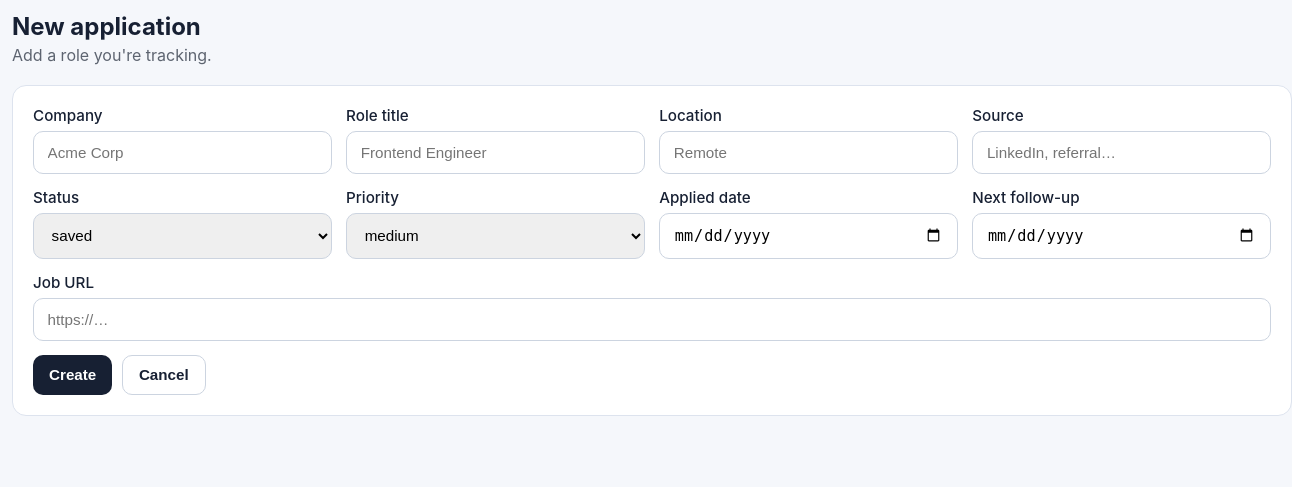
Scenario: NewApplicationPage › shows the server error when creation fails
The width and height of the screenshot is (1292, 487).
Type "Engineer" into the field labelled "Role title" at [495, 152], box [346,131,645,174]
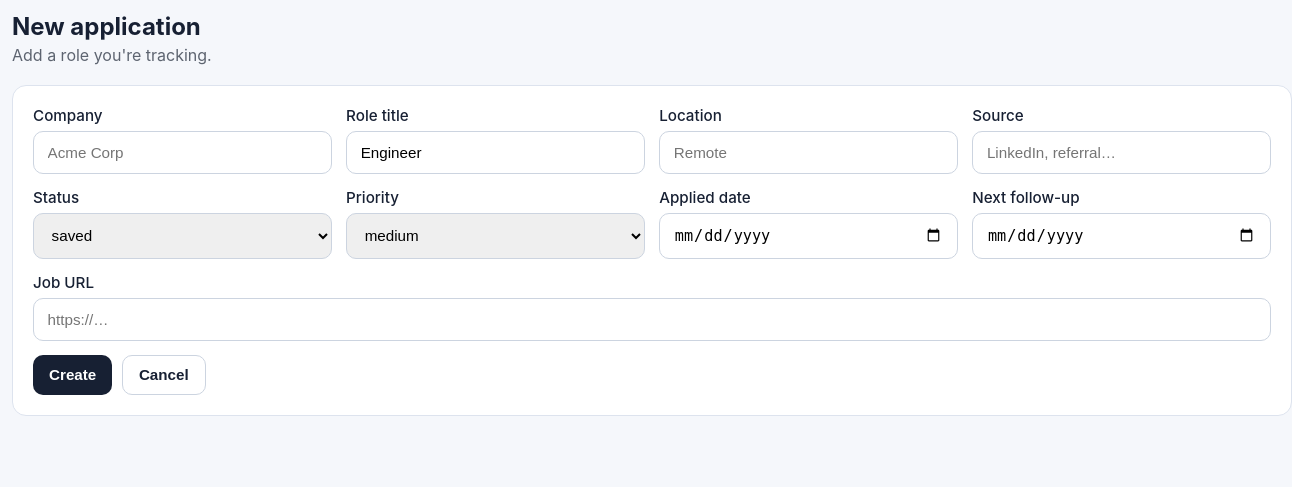
Click the button "Create" at [73, 375], box [33,355,112,395]
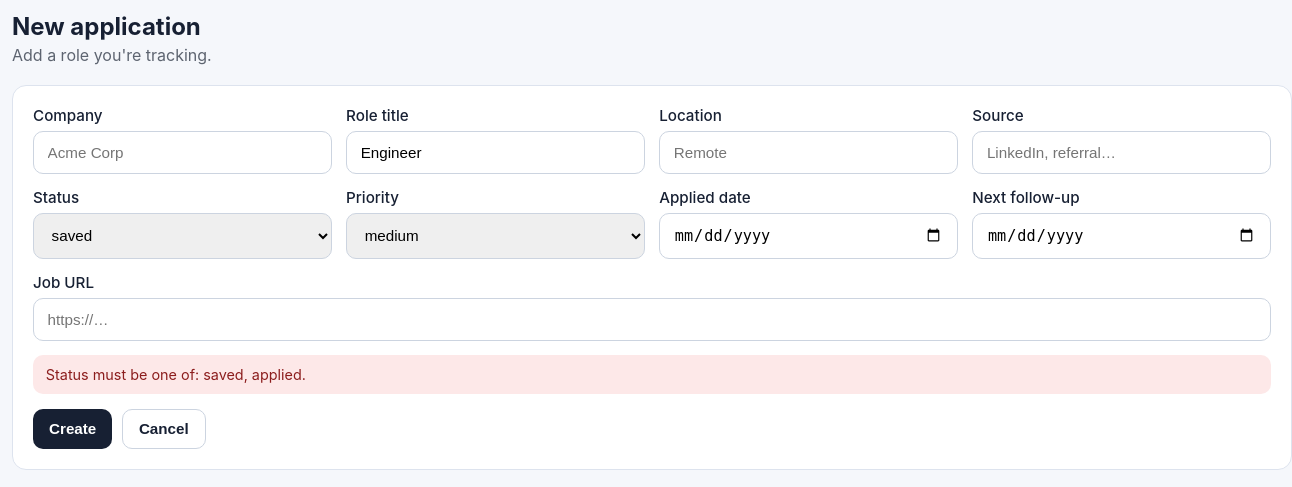
Expected: the text "Status must be one of: saved, applied." is shown, [33,355,1271,394]
